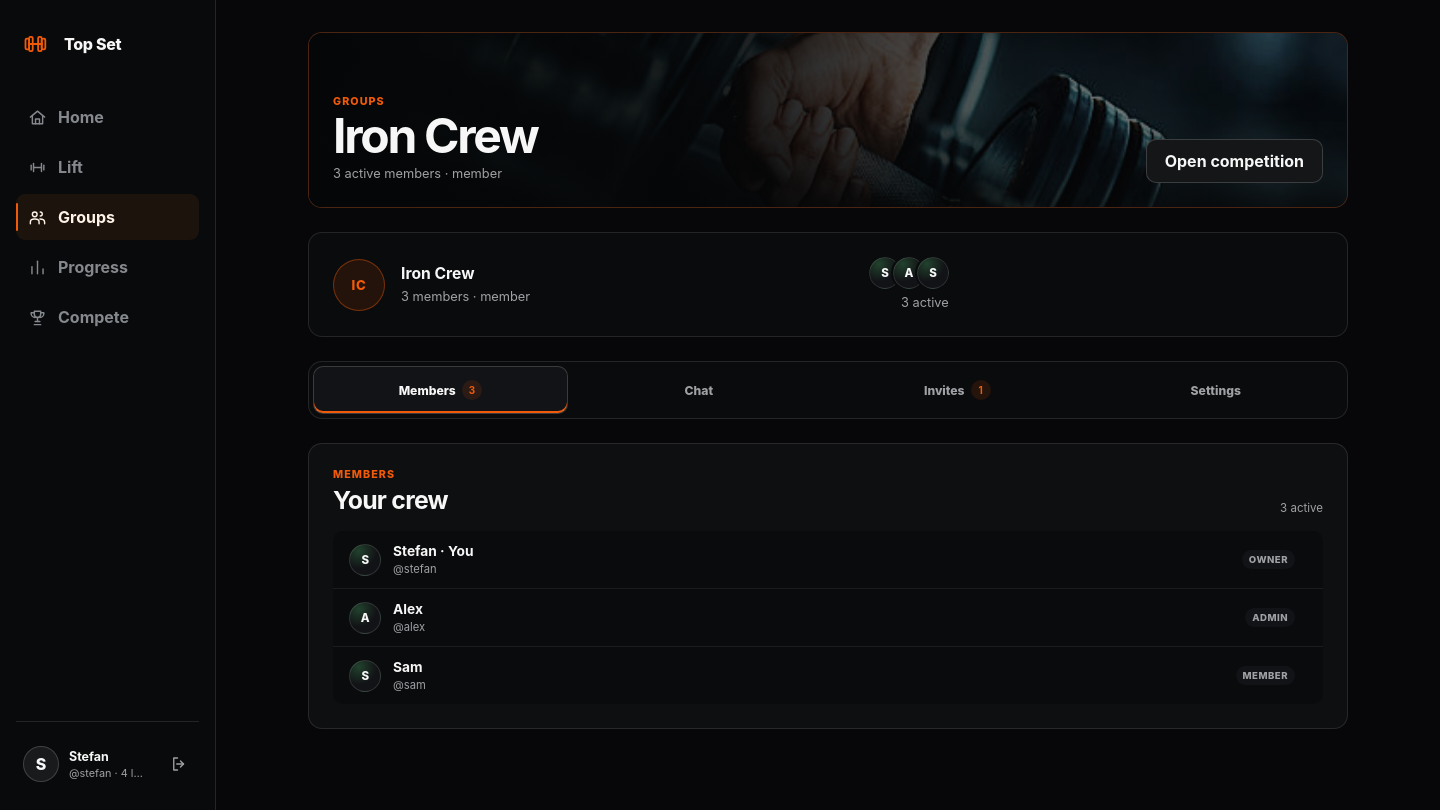
Test: GroupAdministrationScreen › keeps ordinary members read-only while preserving incoming invites, group creation, and leaving
This screenshot has width=1440, height=810.
Click the tab "Invites 1". click: click(957, 390)
box: [830,366,1084,414]
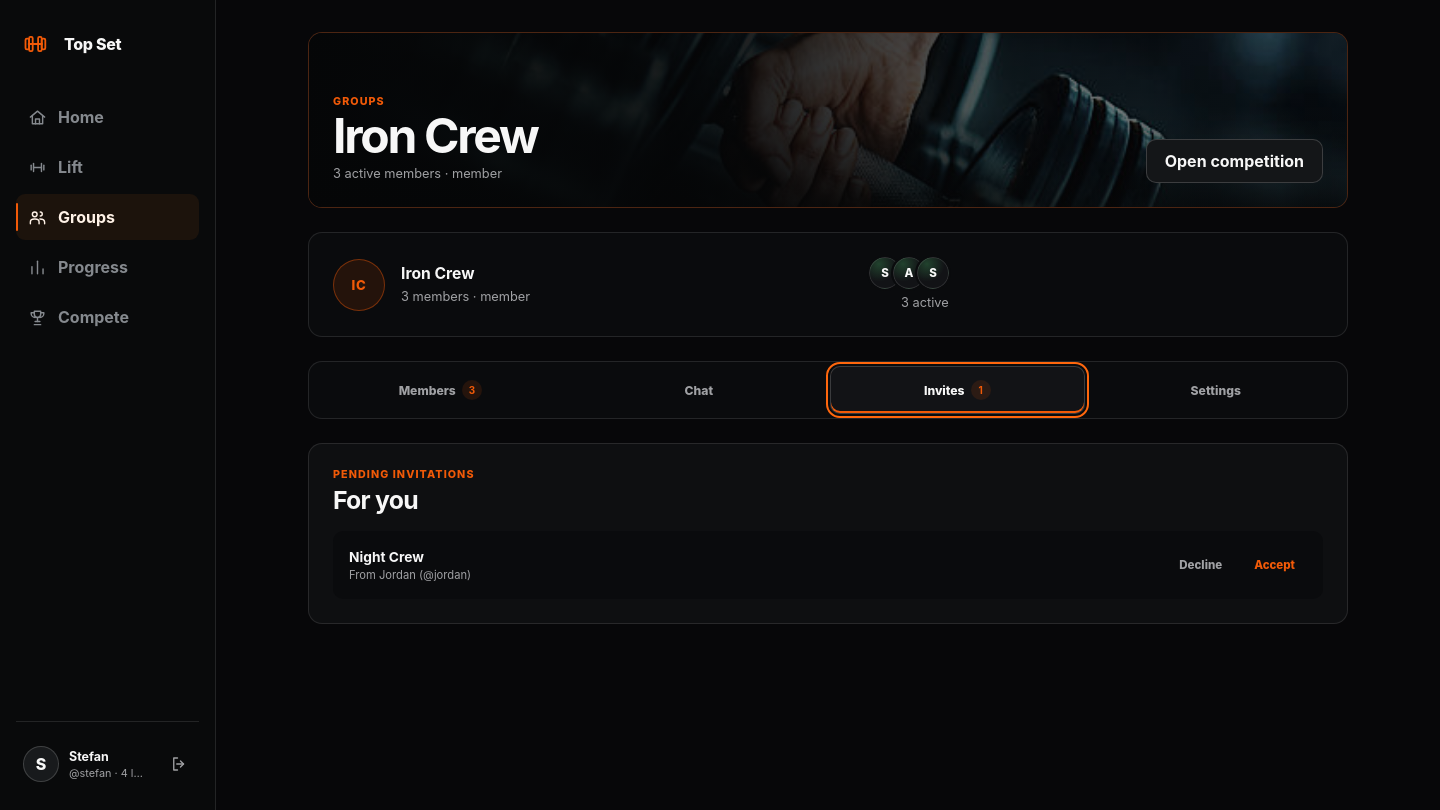
Result: the heading "For you" is shown at [333,485,418,515]
Click the tab "Settings". click: click(1216, 390)
box: [1088,366,1343,414]
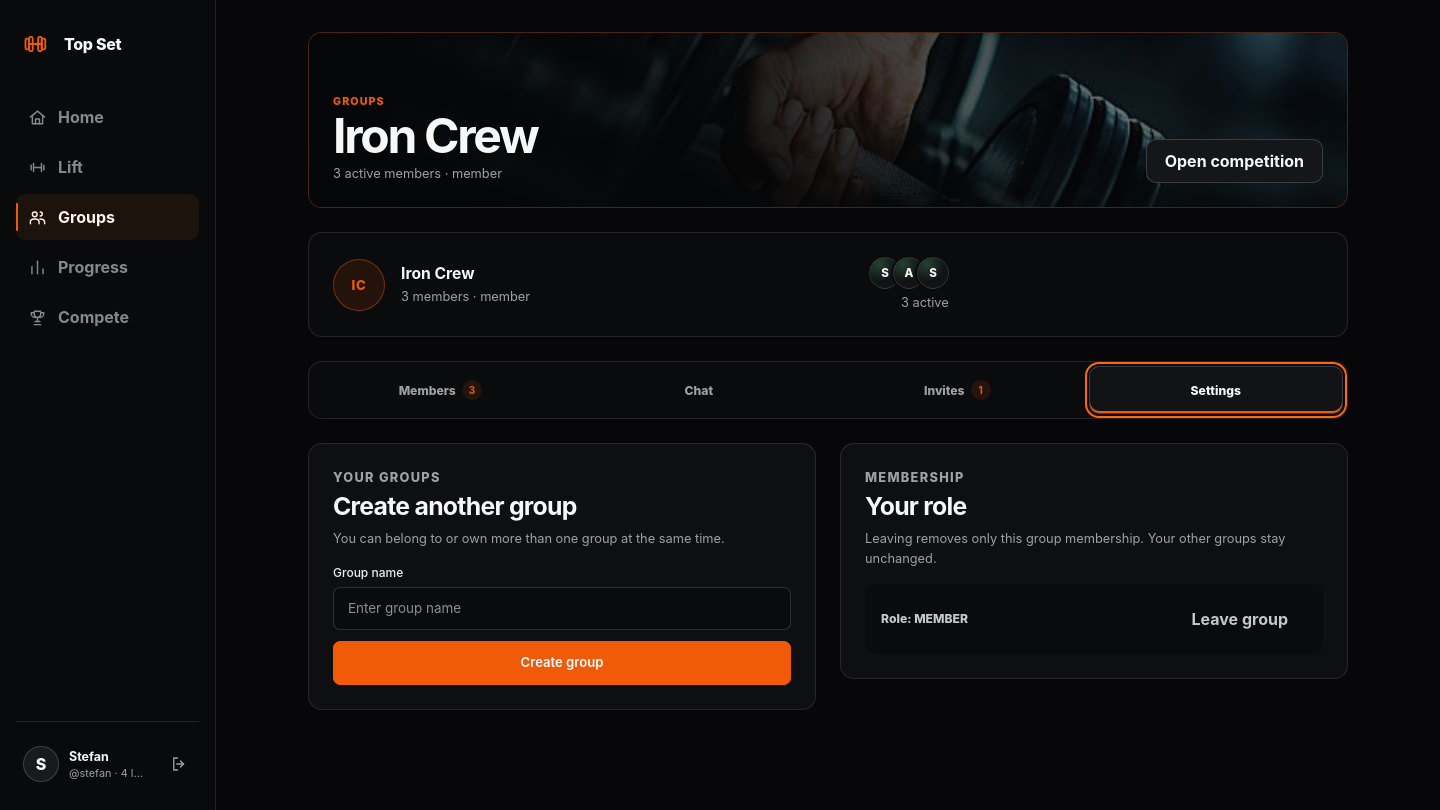
Result: the button "Leave group" is shown at [1172,596,1307,642]
